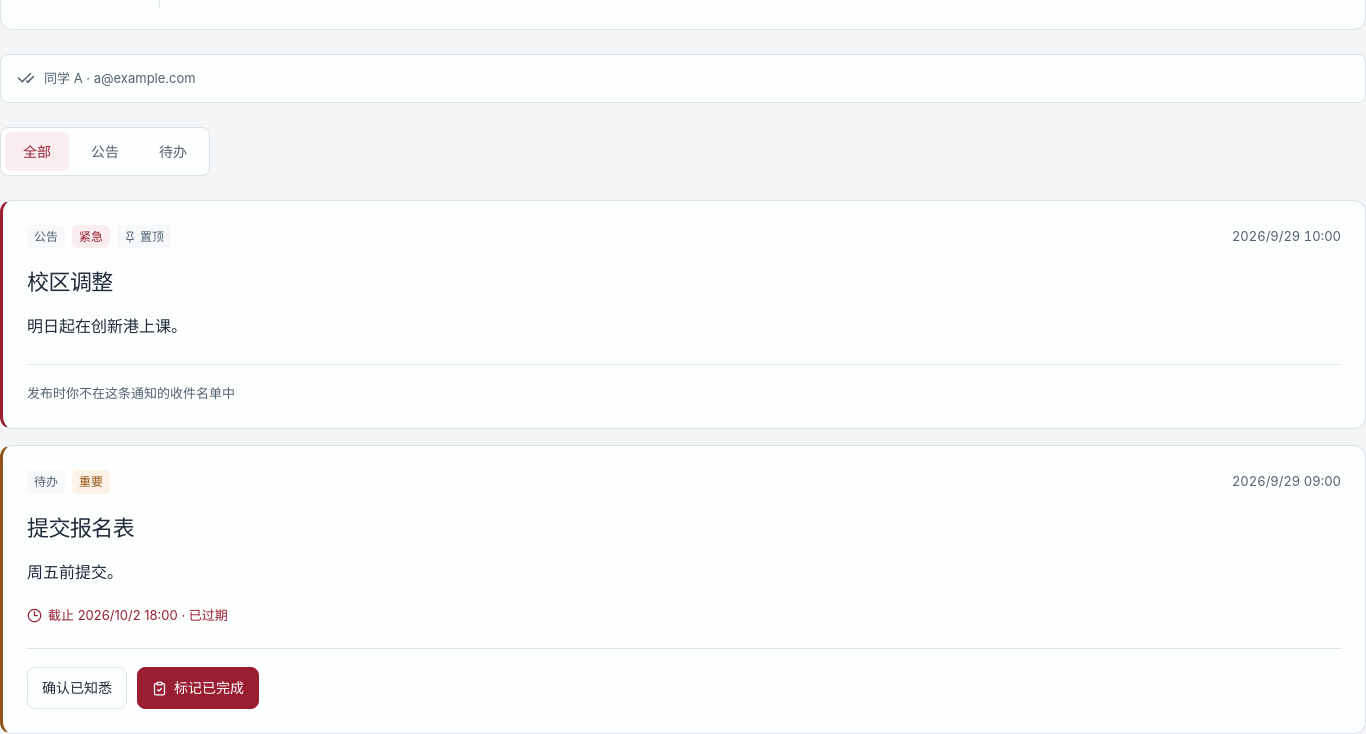
Test case: completes a task directly without an upload dialog when proof is not required
(page scrolled)
Step 1. Click the button "标记已完成" → (198, 688), box [137,667,259,709]
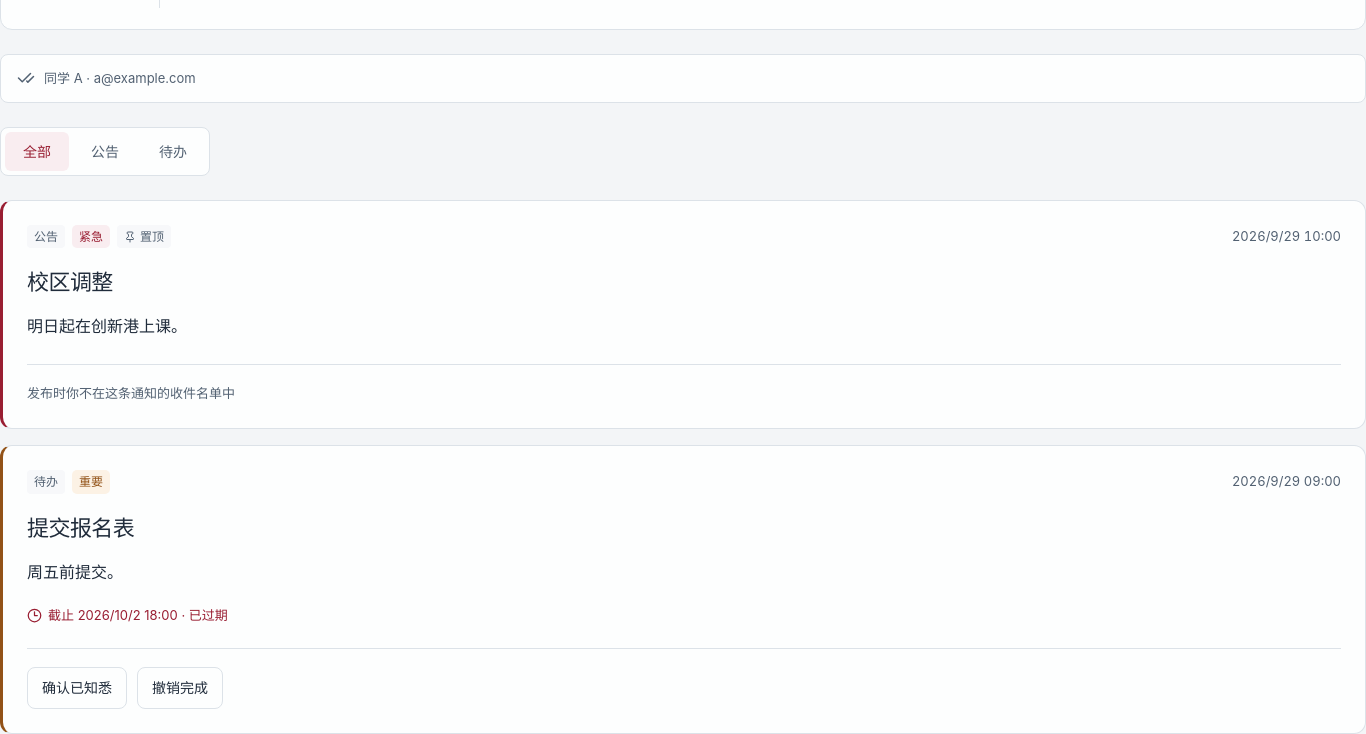
expect the button "撤销完成" is shown: met, box [137,667,223,709]
